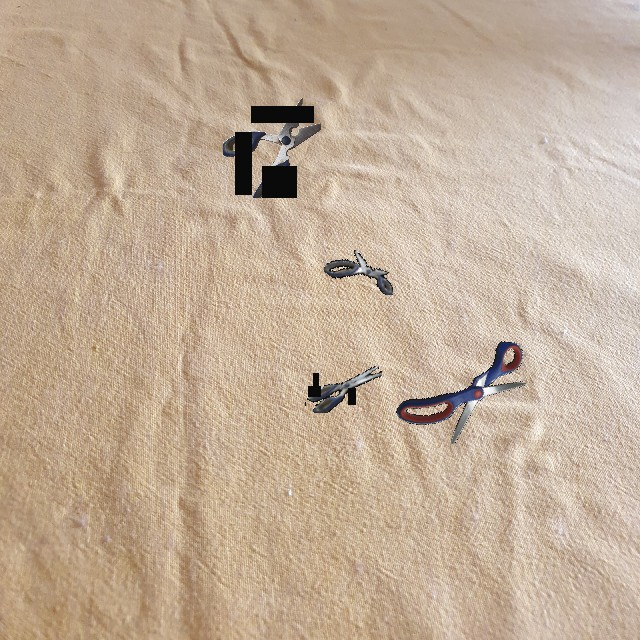scissors: (396, 341, 526, 444), (223, 98, 321, 198), (305, 366, 382, 413), (324, 250, 393, 295)
